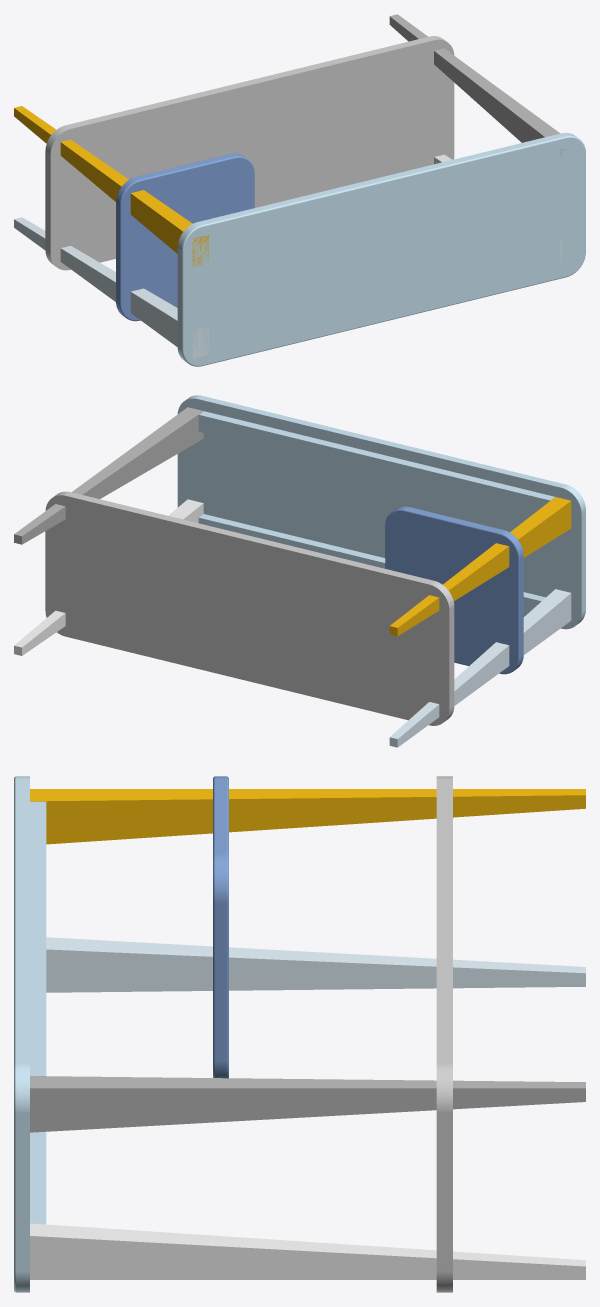
The model's file is Number1.glb.
3 renders of one model, top to bottom at view 1: azimuth 30°, elevation 25°; view 2: azimuth 150°, elevation 25°; view 3: azimuth 270°, elevation 25°, orthographic. The views are drawn at different scales.
Parts seen in each view (by area): view 1: Top Surface, Bottom Surface, Shelf, Leg BL, Leg FL, Leg BR; view 2: Bottom Surface, Top Surface, Shelf, Leg BR, Leg BL, Leg FL, Leg FR; view 3: Leg BR, Leg FR, Leg BL, Leg FL, Top Surface, Bottom Surface, Shelf.
Part boxes in pixels (x1,y1,x2,y2): Top Surface: [177, 132, 585, 366]; Bottom Surface: [45, 36, 454, 270]; Shelf: [116, 153, 254, 321]; Leg BL: [14, 106, 208, 266]; Leg FL: [14, 217, 208, 358]; Leg BR: [389, 14, 566, 157]; Bottom Surface: [45, 491, 454, 725]; Top Surface: [177, 395, 585, 629]; Shelf: [385, 506, 523, 674]; Leg BR: [14, 407, 203, 544]; Leg BL: [389, 497, 571, 636]; Leg FL: [389, 589, 571, 747]; Leg FR: [14, 499, 203, 655]; Leg BR: [30, 1076, 585, 1132]; Leg FR: [30, 1223, 585, 1279]; Leg BL: [30, 789, 585, 844]; Leg FL: [46, 937, 585, 992]; Top Surface: [14, 776, 46, 1292]; Bottom Surface: [436, 776, 452, 1292]; Shelf: [213, 776, 228, 1078].
Size of the model in its own units: 0.762 by 0.254 by 0.5842.
